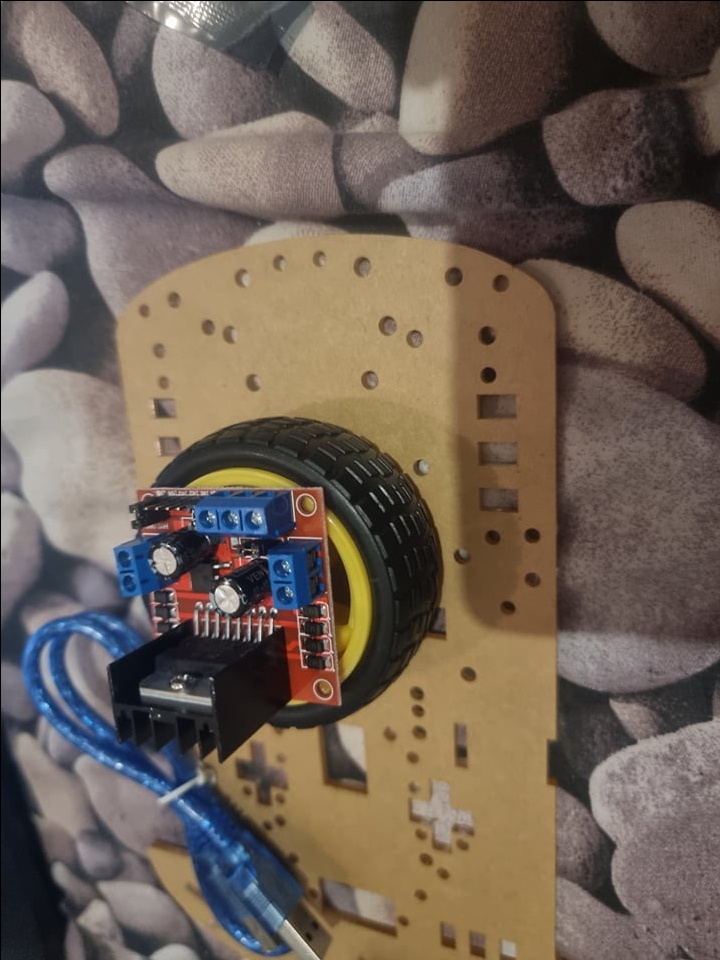MOTOR: (108, 485, 342, 775)
